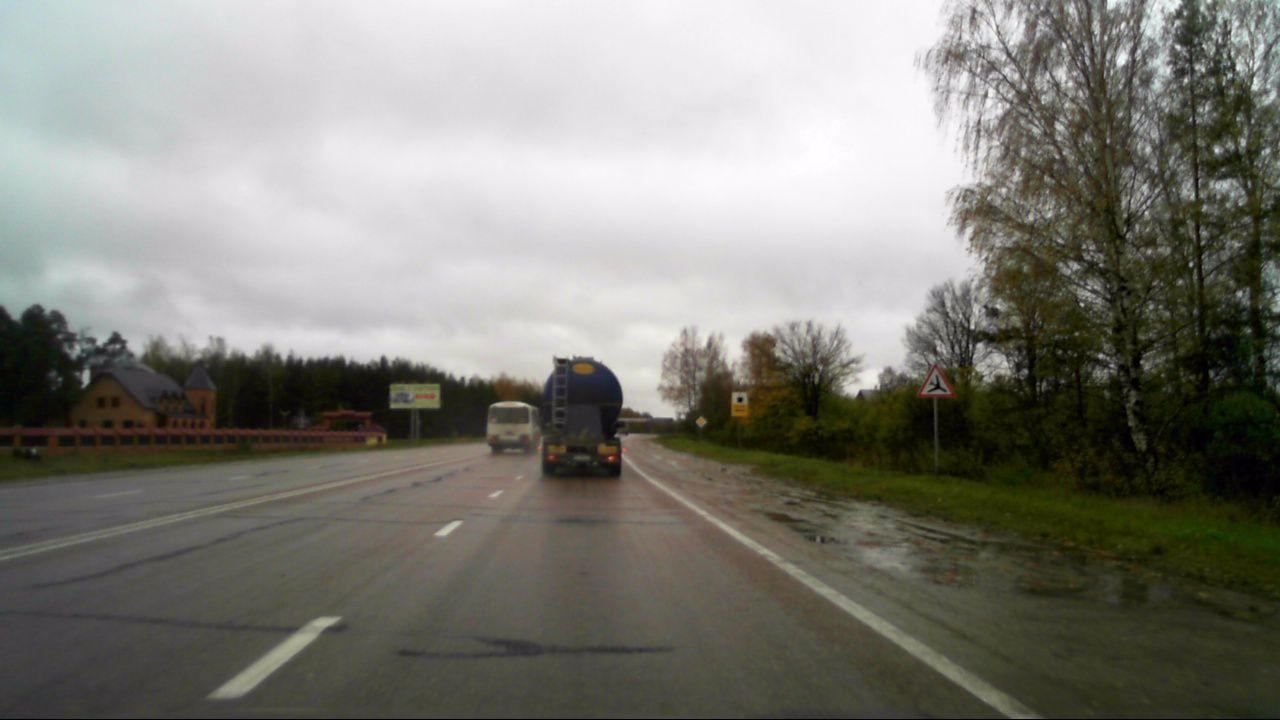1_30: (914, 359, 954, 399)
